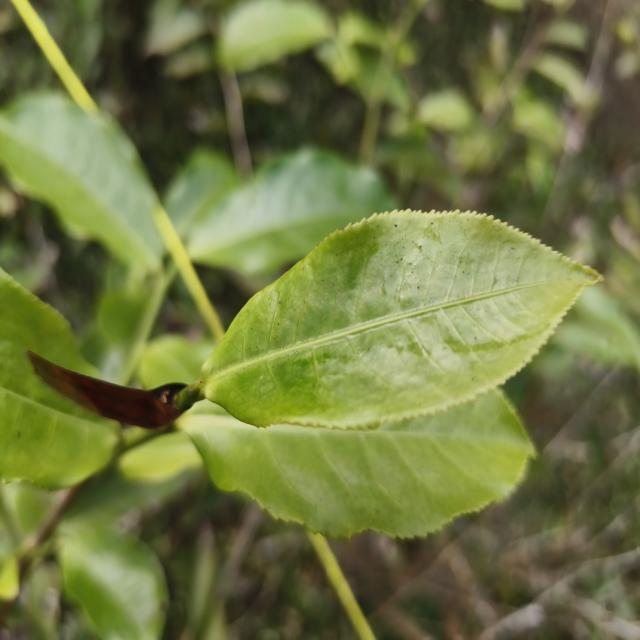Leaf: (200, 210, 598, 429), (178, 389, 533, 538), (0, 93, 164, 271), (188, 149, 395, 276), (0, 269, 120, 488), (58, 527, 167, 640), (217, 0, 332, 71), (417, 89, 473, 130)
